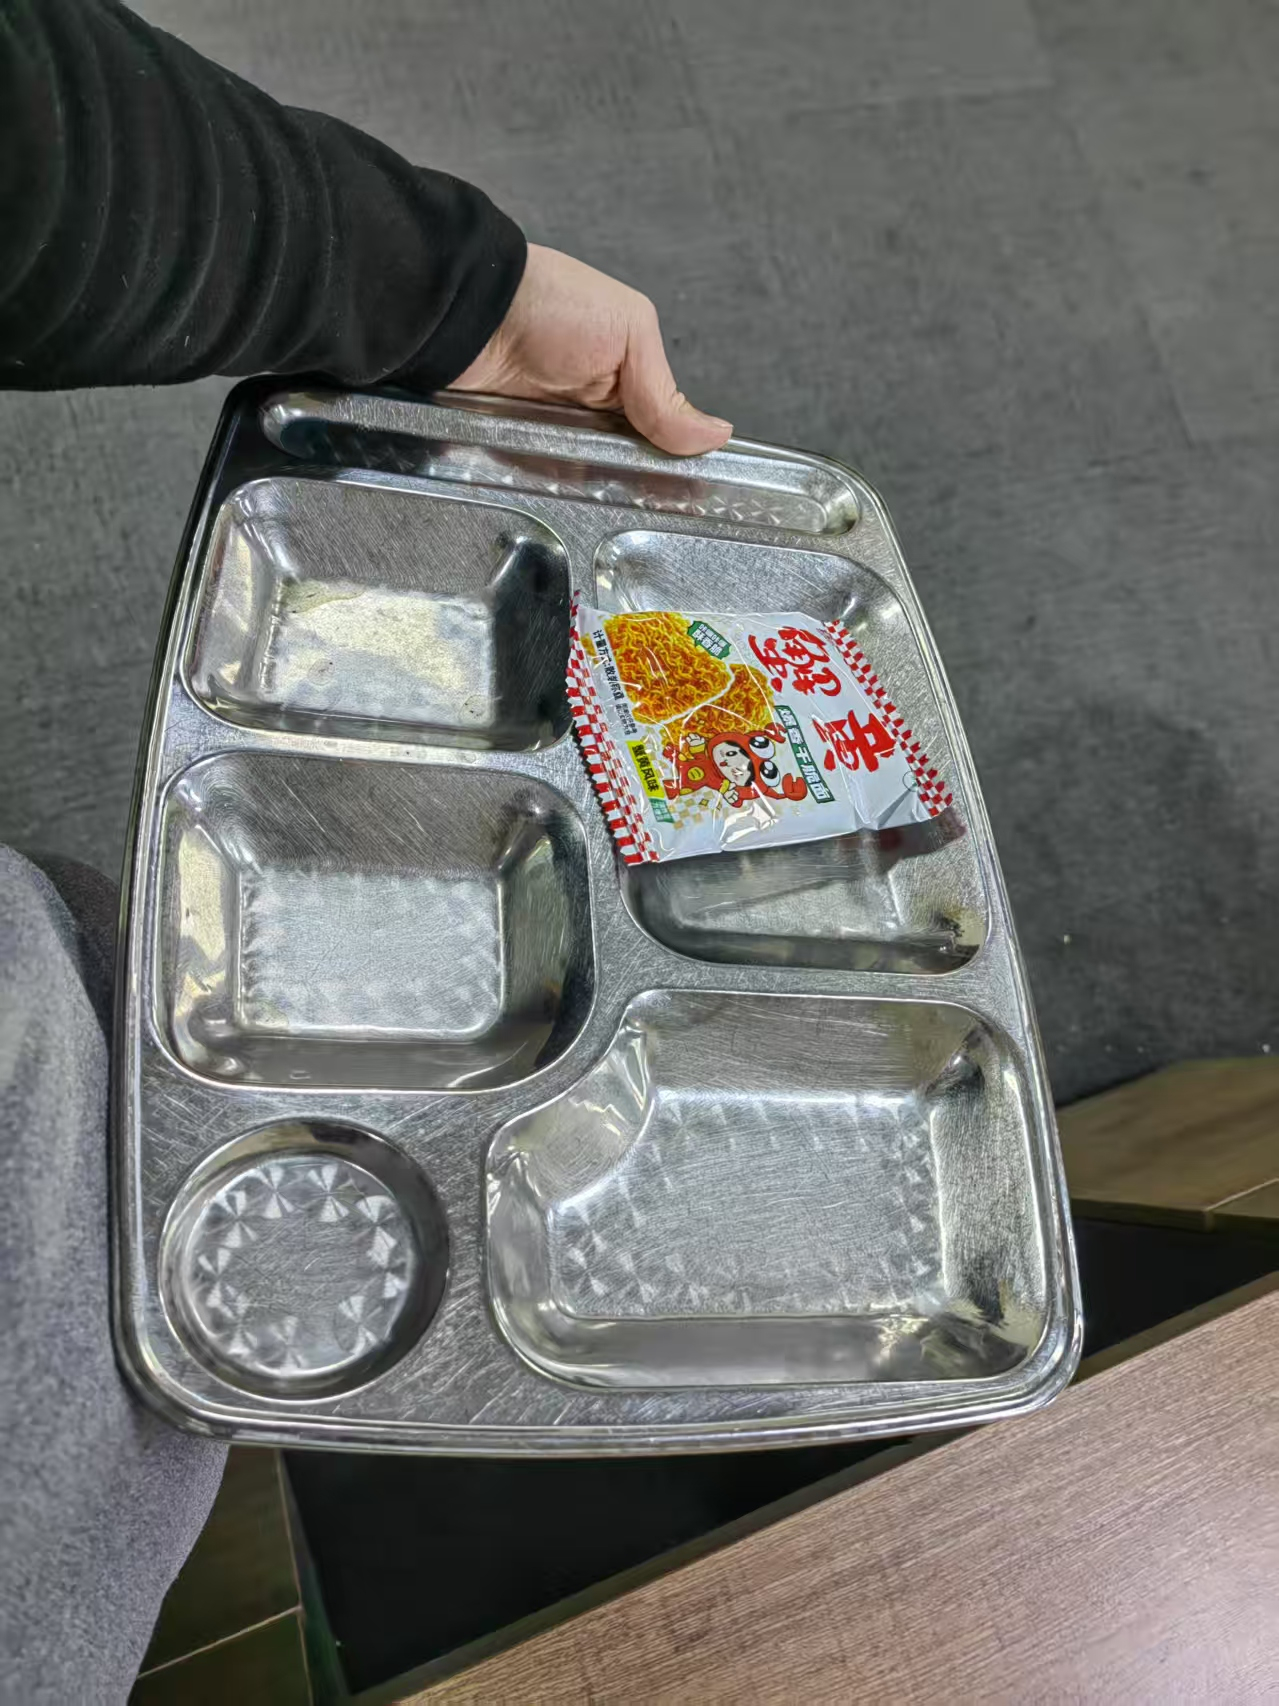mild: (562, 590, 964, 867)
plate: (108, 377, 1085, 1462)
